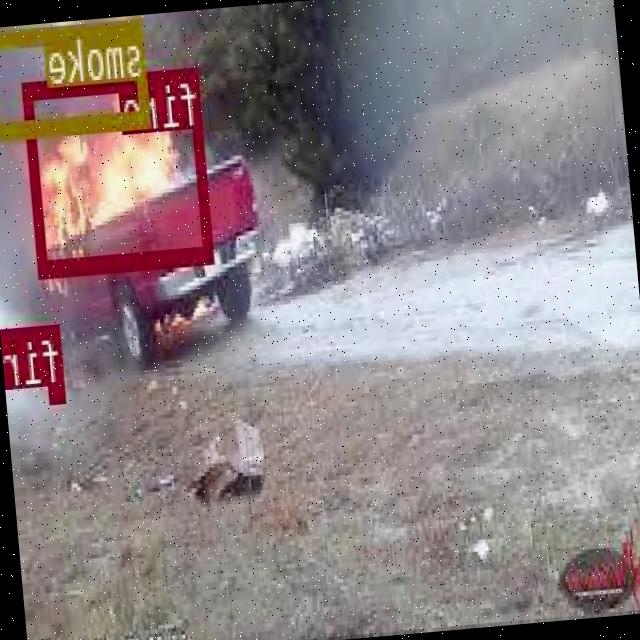fire: (23, 64, 215, 274), (44, 322, 67, 398)
smoke: (0, 15, 151, 136)
